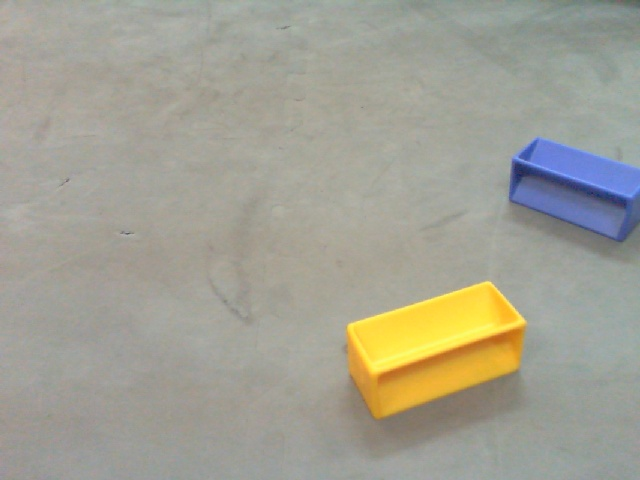BlueSample: (509, 133, 640, 250)
YellowSample: (336, 281, 531, 423)
